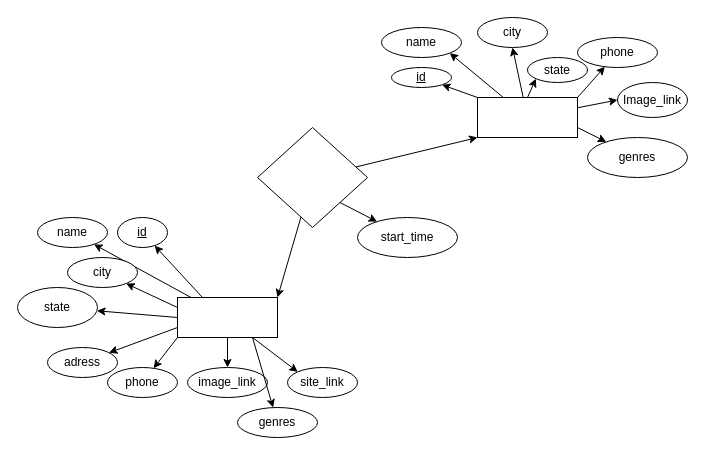
Some shapes in this 705 by 455 pixel diagram are drawn without their labels. The centre of each missing label's shape, as x and y in pixels:
Artist: the point at 527,117
Show: the point at 312,177
Venue: the point at 227,317
